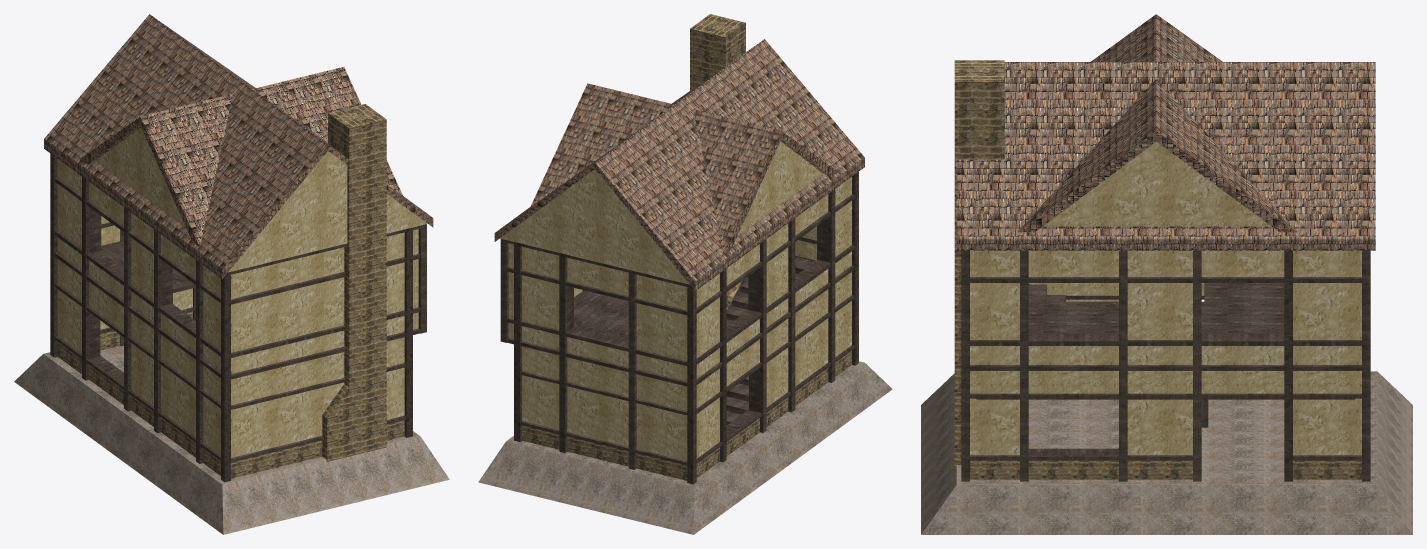
File: houses_cityhouse2.glb
3 views of the same model, side by side, from view 1: azimuth 30°, elevation 25°; view 2: azimuth 150°, elevation 25°; view 3: azimuth 270°, elevation 25° (orthographic). The views are drawn at different scales.
Visible parts, largest first — view 1: cityhouse2; view 2: cityhouse2; view 3: cityhouse2.
Part boxes in pixels (bbox=[...]): cityhouse2: bbox=[14, 14, 449, 534]; cityhouse2: bbox=[478, 14, 892, 534]; cityhouse2: bbox=[921, 14, 1412, 534].
Size of the model in its own units: 10 by 15.25 by 16.
Materials: 5 (5 with a texture image).
